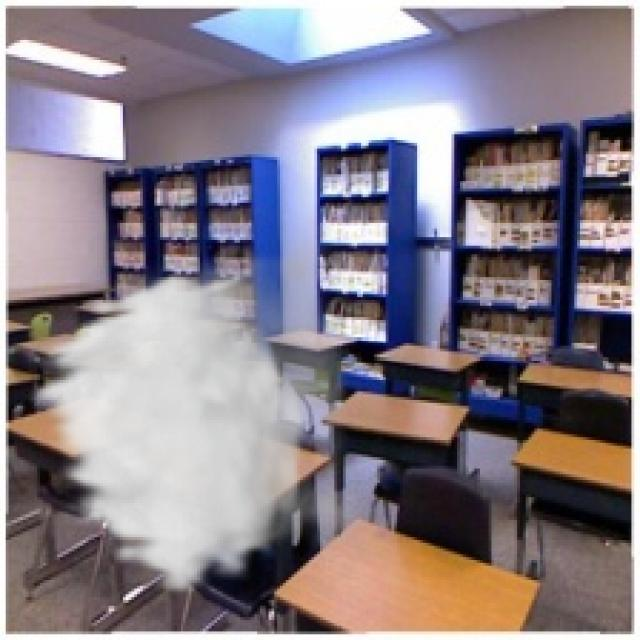smoke: (23, 203, 374, 597)
